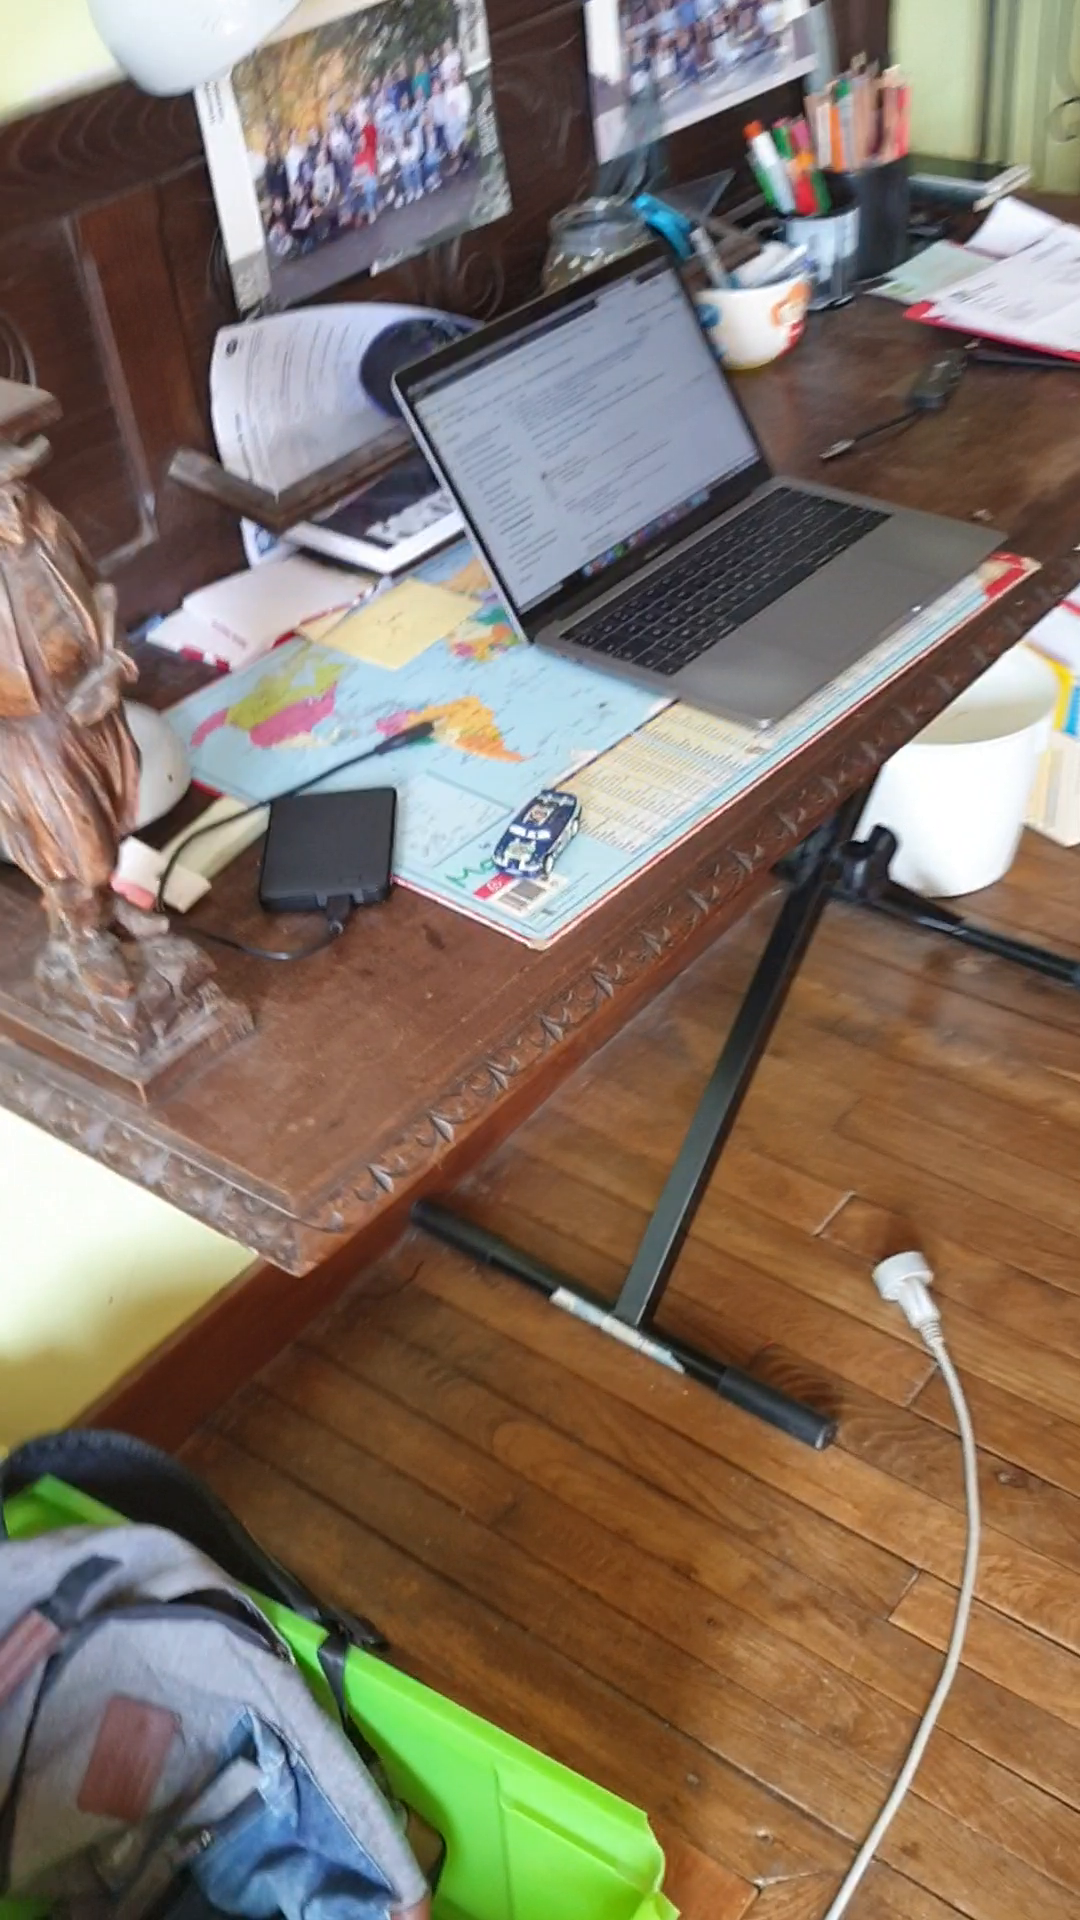cars: (492, 789, 582, 880)
